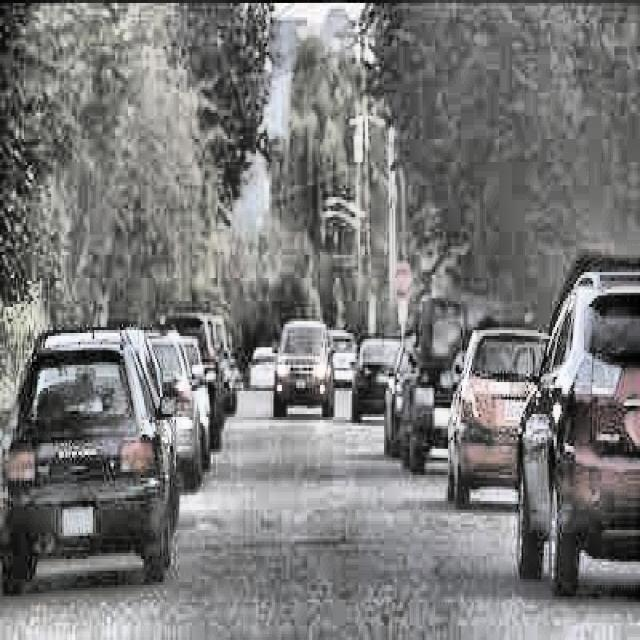license_plate: (59, 504, 94, 536), (502, 396, 532, 426), (434, 402, 457, 432), (295, 378, 308, 393)
